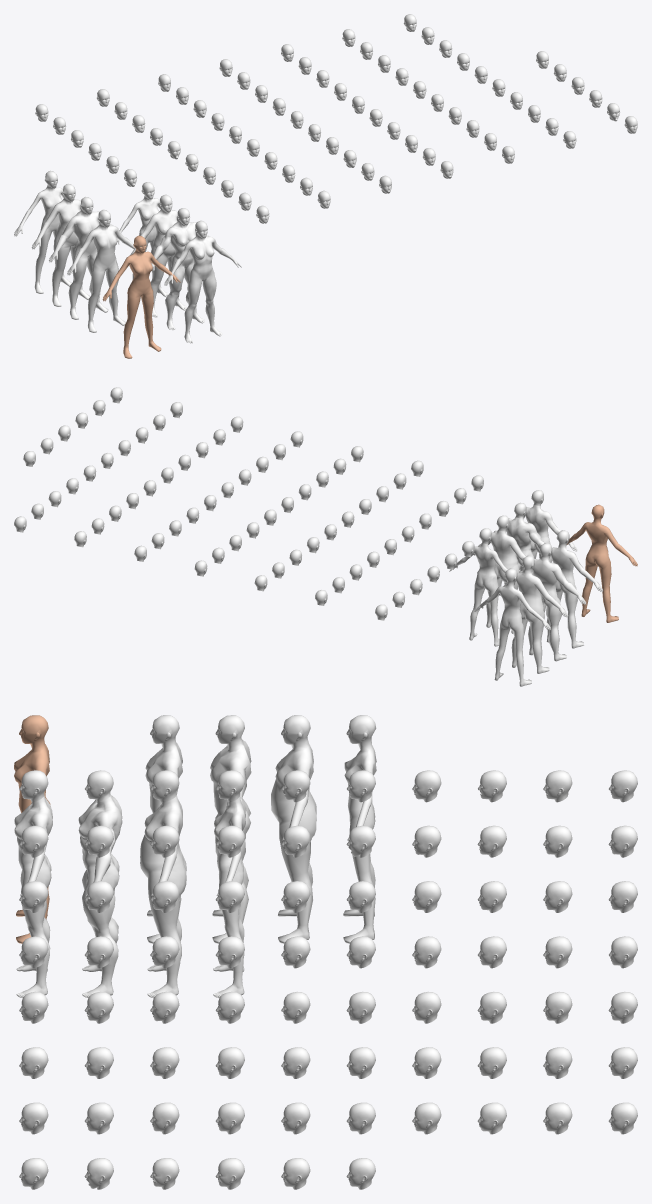
Rendered from woman_morph.glb.
3 renders of one model, top to bottom at view 1: azimuth 30°, elevation 25°; view 2: azimuth 150°, elevation 25°; view 3: azimuth 270°, elevation 25°, orthographic. The views are drawn at different scales.
Parts seen in each view (by area): view 1: body_low__M__CC, body_low__M__MUSCLE, body__M__MUSCLE, body_low__M__MONSTER, body_low__M__BIG, body__M__MONSTER, body_low__M__LOW, body__M__BIG, body__M__LOW; view 2: body_low__M__CC, body_low__M__LOW, body_low__M__BIG, body_low__M__MONSTER, body__M__LOW, body_low__M__MUSCLE, body__M__BIG, body__M__MONSTER, body__M__MUSCLE; view 3: body_low__M__BIG, body__M__BIG, body__M__MONSTER, body_low__M__LOW, body__M__MUSCLE, body_low__M__MONSTER, body__M__LOW, body_low__M__CC, body_low__M__MUSCLE, Head__M__BIG, Head__M__BrowUp, Head__M__vSH (+73 smaller).
Part boxes in pixels (x1,y1,x2,y2): body_low__M__CC: (102,235,180,358); body_low__M__MUSCLE: (67,209,135,332); body__M__MUSCLE: (164,235,241,343); body_low__M__MONSTER: (49,196,112,319); body_low__M__BIG: (31,183,90,306); body__M__MONSTER: (151,221,209,329); body_low__M__LOW: (14,170,71,293); body__M__BIG: (130,208,186,317); body__M__LOW: (116,196,168,303); body_low__M__CC: (566,504,637,622); body_low__M__LOW: (474,568,550,686); body_low__M__BIG: (498,555,568,673); body_low__M__MONSTER: (516,543,586,661); body__M__LOW: (449,543,507,646); body_low__M__MUSCLE: (539,530,602,648); body__M__BIG: (473,530,525,633); body__M__MONSTER: (494,517,544,608); body__M__MUSCLE: (523,505,577,562); body_low__M__BIG: (271,715,316,943); body__M__BIG: (140,795,186,998); body__M__MONSTER: (78,794,122,997); body_low__M__LOW: (343,715,376,943); body__M__MUSCLE: (14,795,52,997); body_low__M__MONSTER: (210,715,251,943); body__M__LOW: (213,796,245,997); body_low__M__CC: (14,715,50,943); body_low__M__MUSCLE: (145,715,182,943); Head__M__BIG: (150,770,179,802); Head__M__BrowUp: (543,1102,572,1134); Head__M__vSH: (19,936,48,968).
Size of the model in its own units: 8.73 by 1.79 by 4.76.
